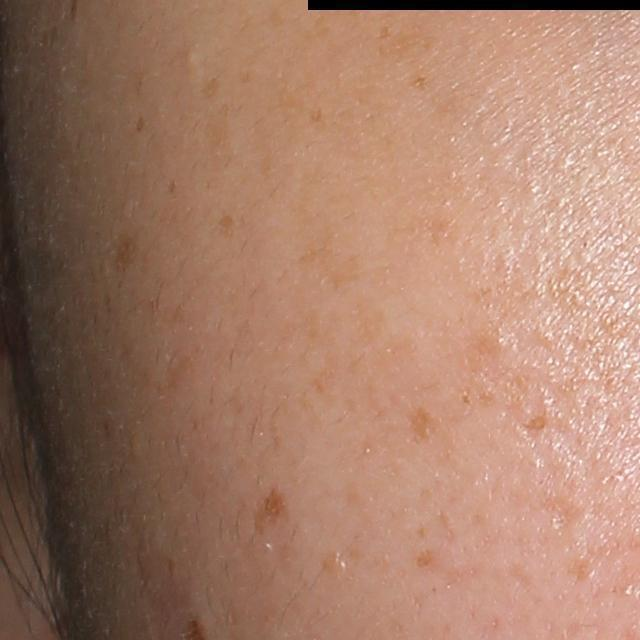comedo: (184, 49, 200, 68)
melasma: (97, 225, 145, 313), (250, 477, 294, 540), (412, 545, 484, 583), (404, 408, 446, 455), (210, 207, 245, 242), (131, 107, 151, 139)
